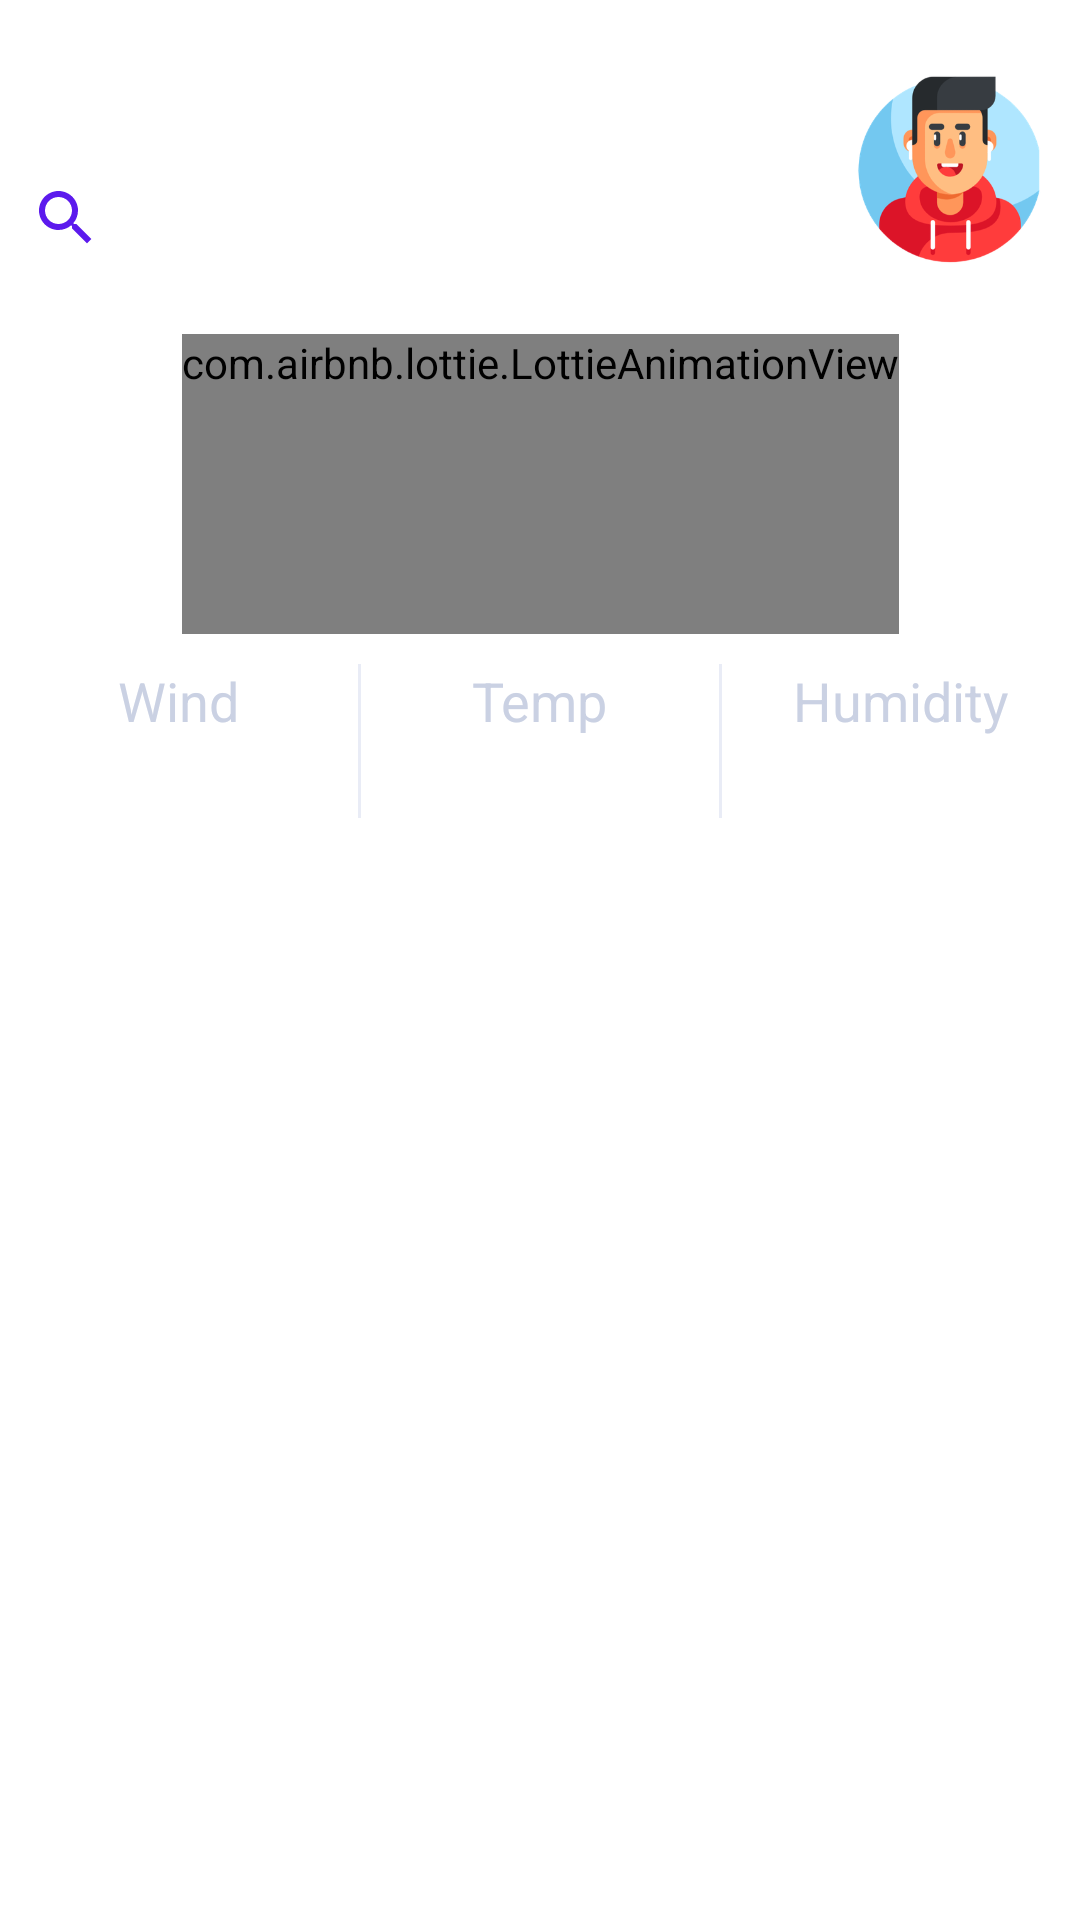

Icons on this 1080*1920 Android screen, each with the point to tap as (x=x, y=y):
search: (x=65, y=217)
user: (x=949, y=169)
